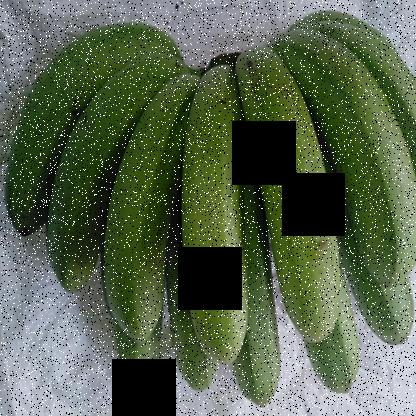freshunripe: (269, 1, 415, 297), (52, 29, 187, 305), (175, 29, 269, 379), (108, 40, 206, 352), (253, 38, 344, 348)
unripe: (5, 1, 106, 246), (375, 18, 415, 256), (349, 243, 415, 362), (306, 312, 364, 412), (240, 331, 289, 415)
